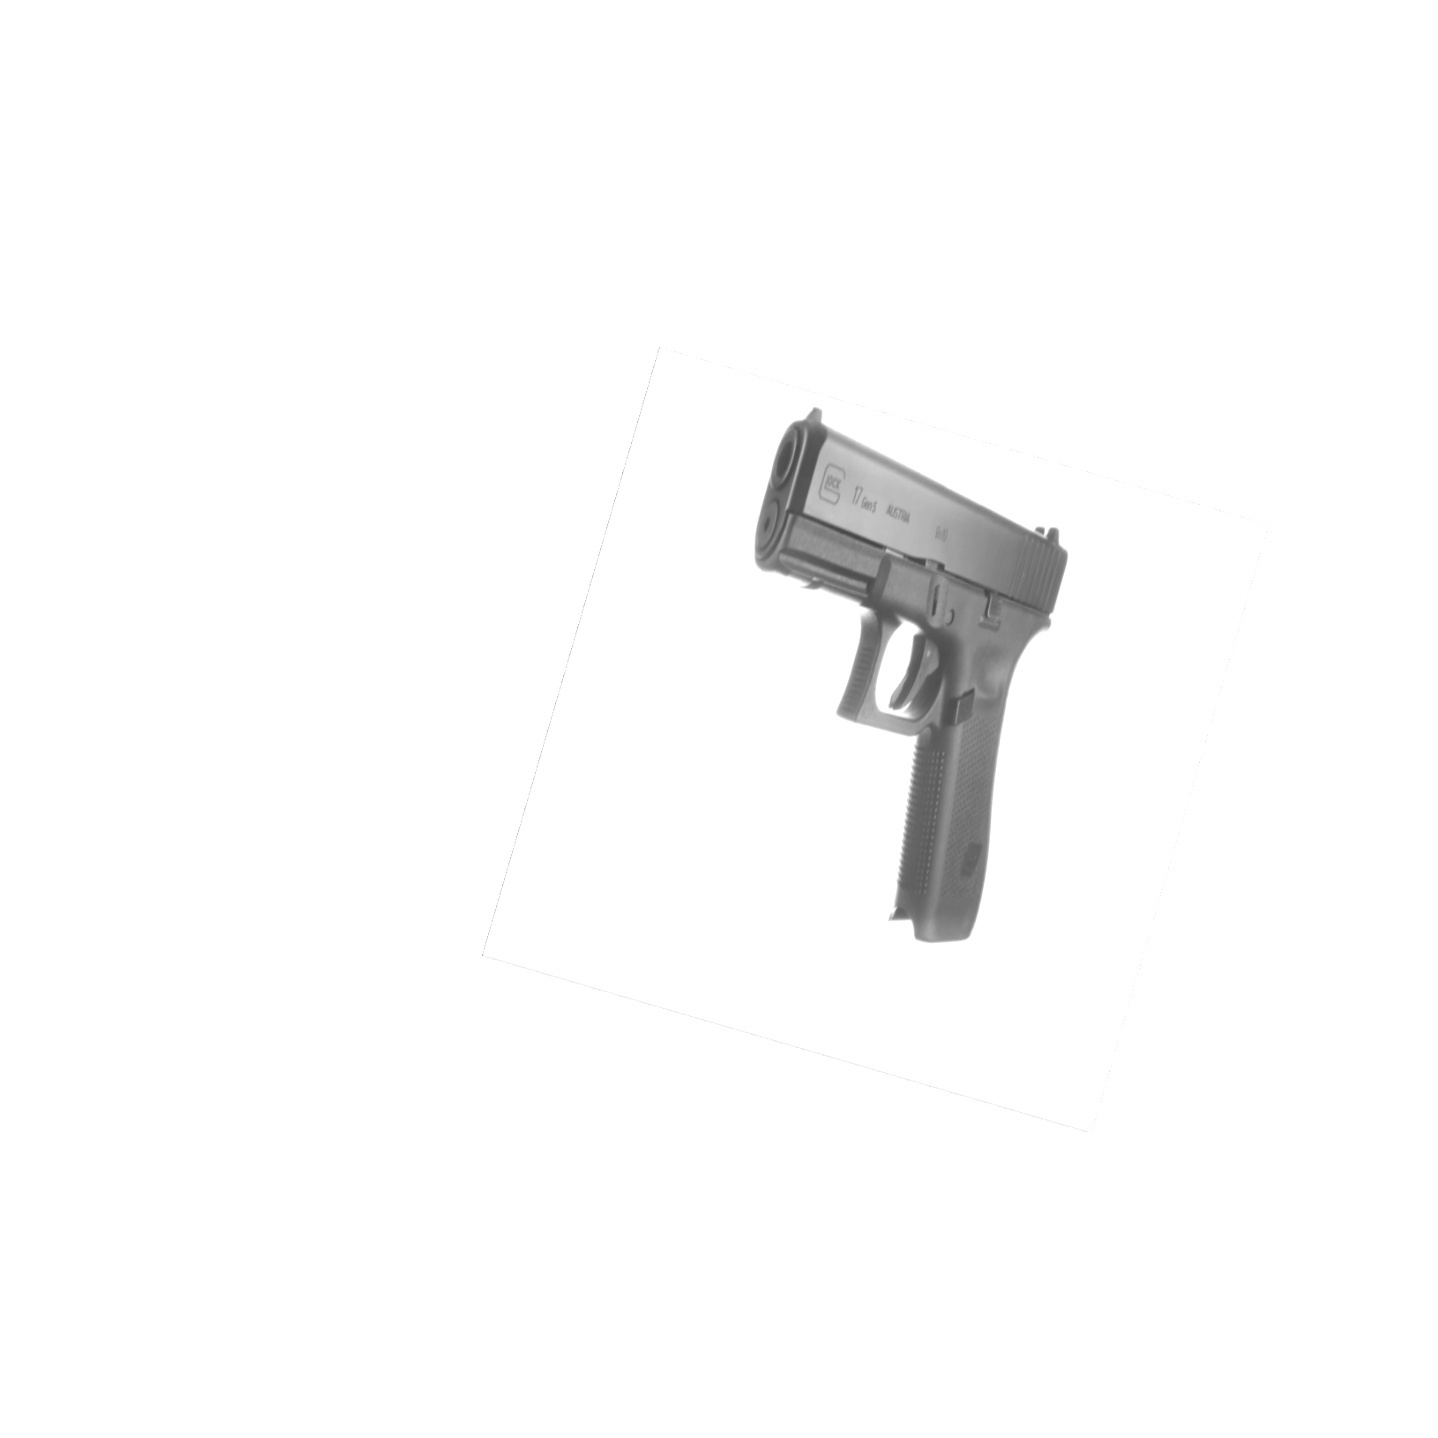gun: (740, 402, 1077, 967)
